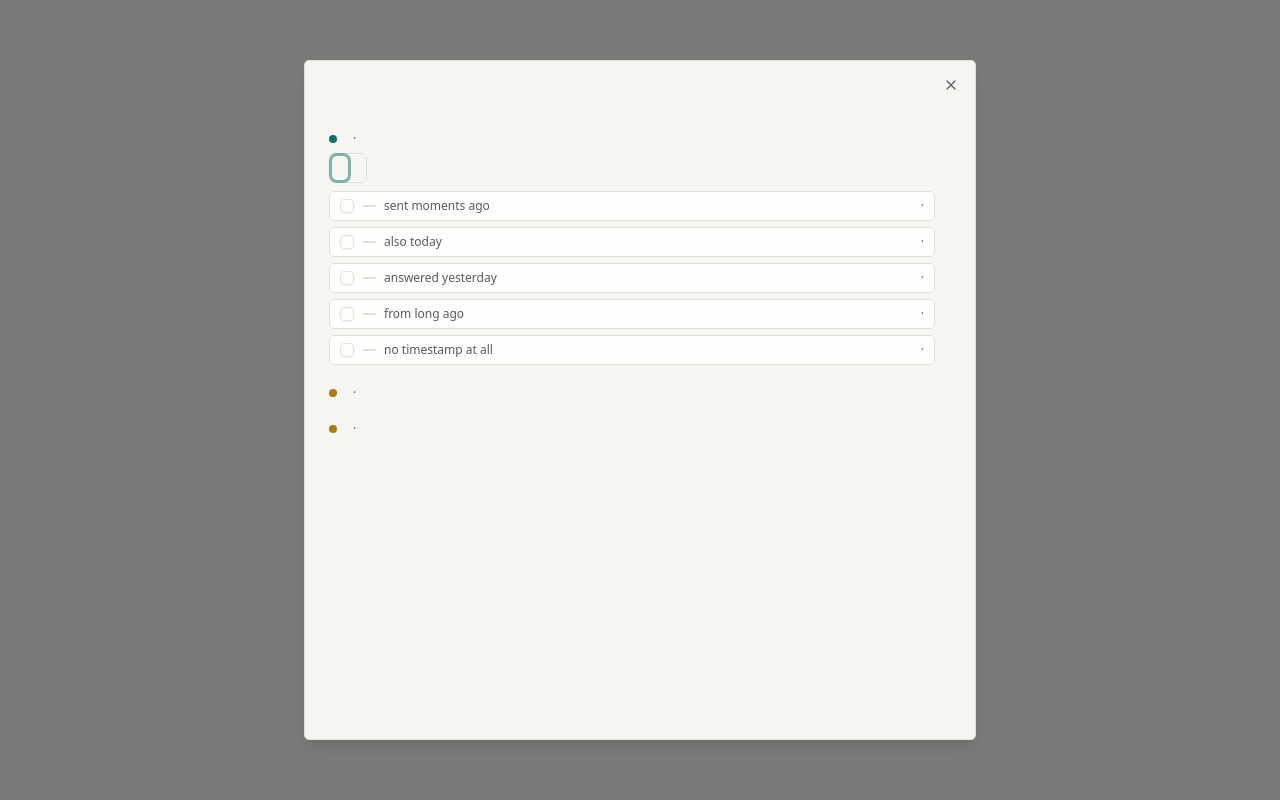
ContextBreakdownDialog time view › switches back to the flat list without leaving group headers behind
The image size is (1280, 800).
Click the button with test id "breakdown-history-view-time".
click(356, 168)  # box x1=348 y1=156 x2=364 y2=180
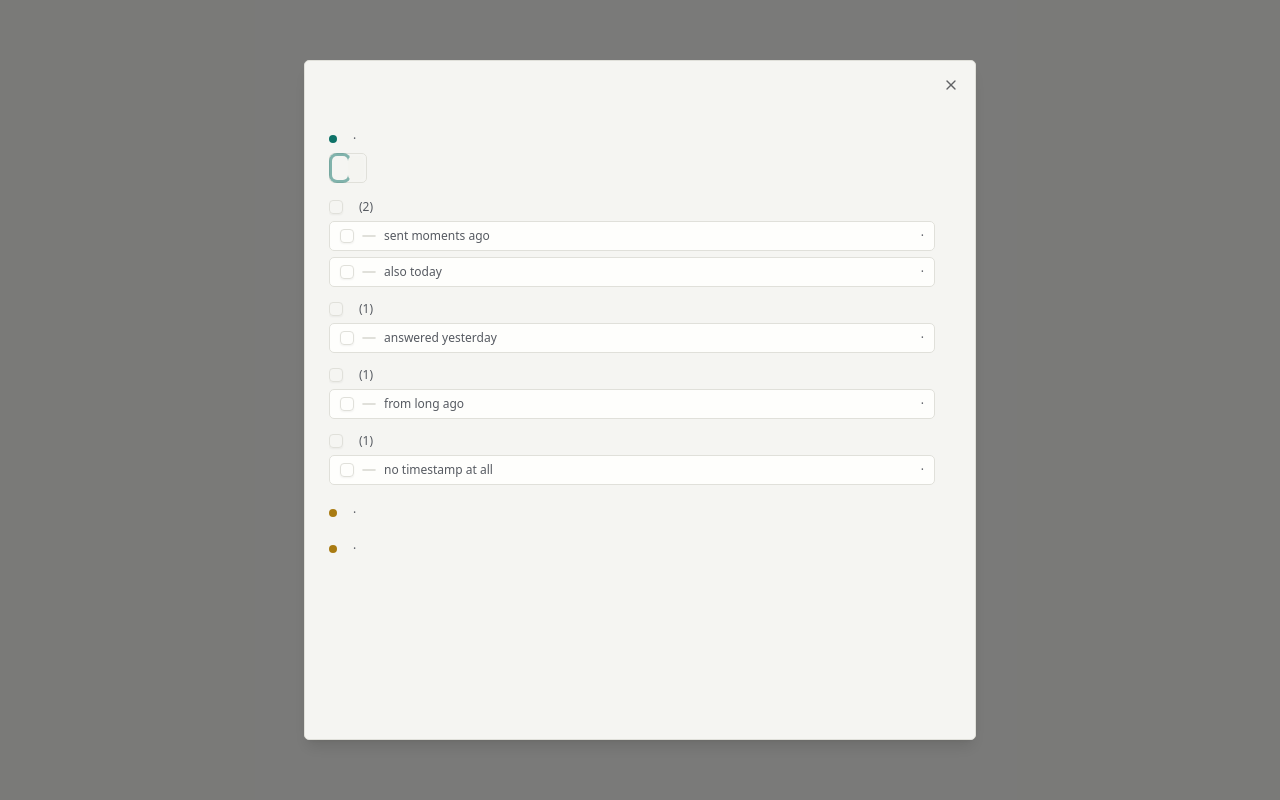
Click the button with test id "breakdown-history-view-flat".
click(340, 168)  # box x1=332 y1=156 x2=348 y2=180
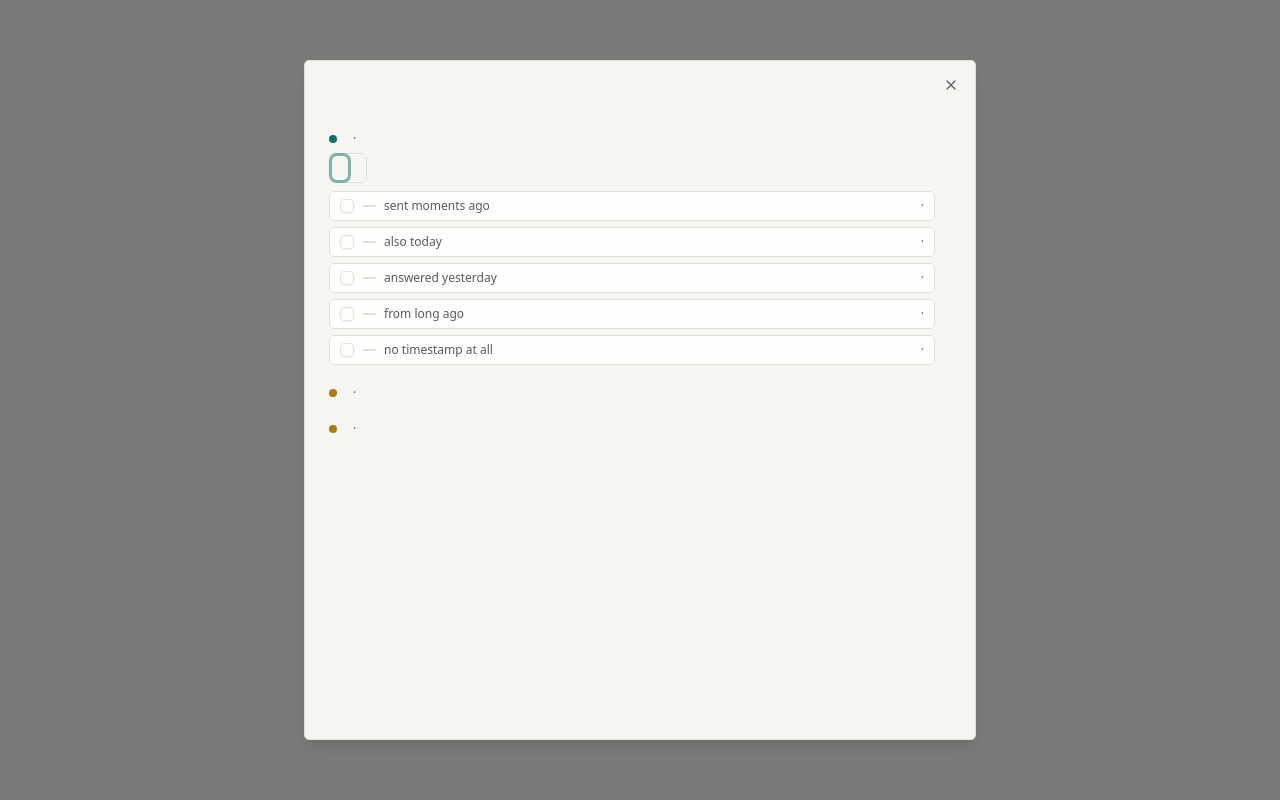
Check: the list item with test id "breakdown-message-w-today" is shown, box x1=329 y1=191 x2=935 y2=221
Check: the list item with test id "breakdown-time-group-today" is gone
